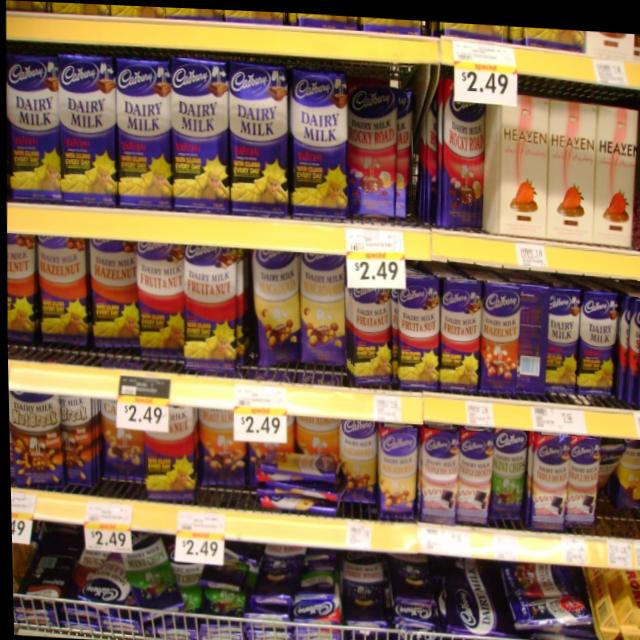q145: (225, 58, 294, 205), (166, 55, 232, 205), (3, 34, 63, 198), (56, 49, 118, 202), (289, 65, 352, 206), (113, 50, 170, 202)
q250: (544, 96, 603, 238), (492, 82, 544, 240), (594, 92, 640, 254)
